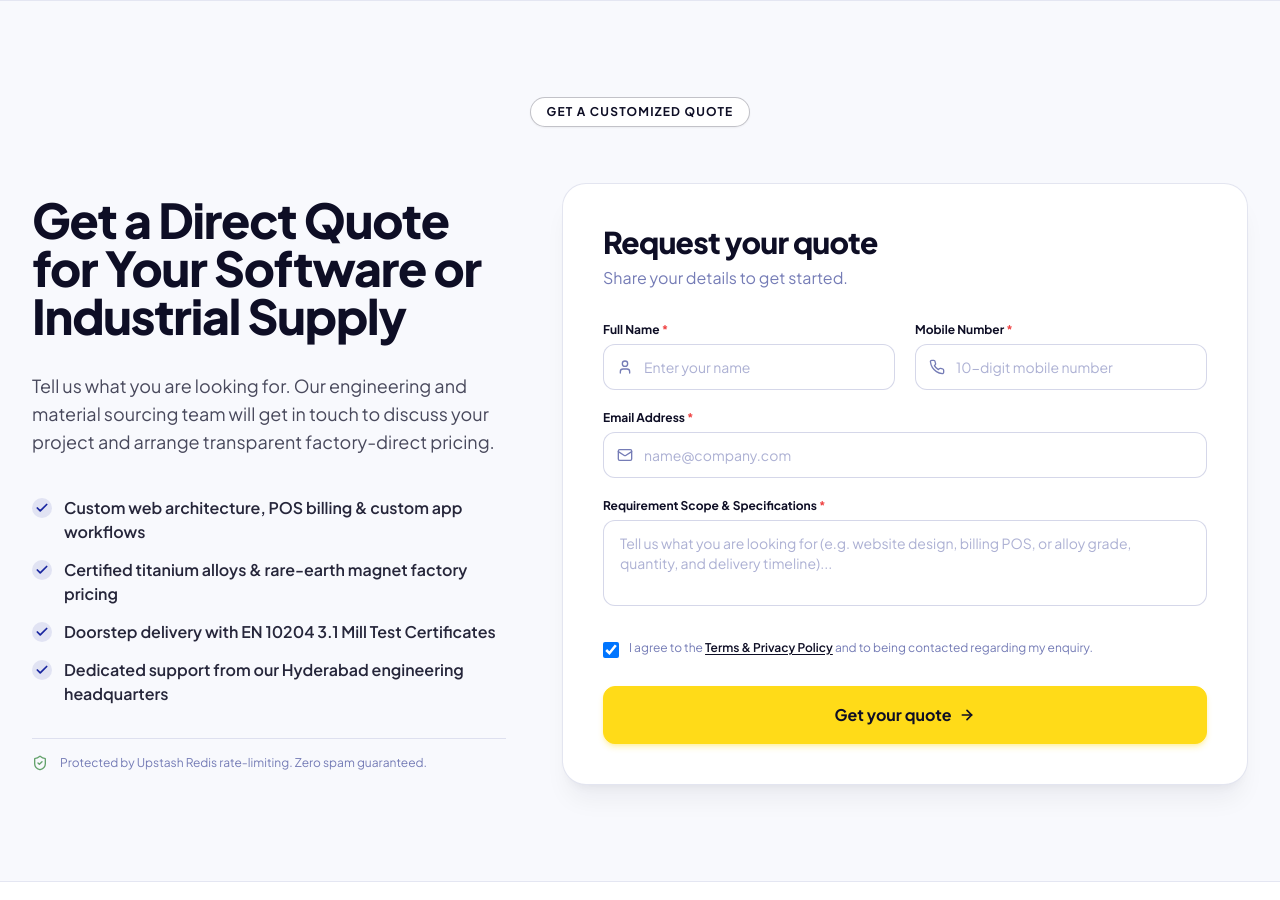
it: Component: ContactUs › submits the form successfully and displays confirmation view
Type "Santosh Sharma" into the field with placeholder "Enter your name".
click(749, 367); type("Santosh Sharma")  # box [603, 344, 895, 390]
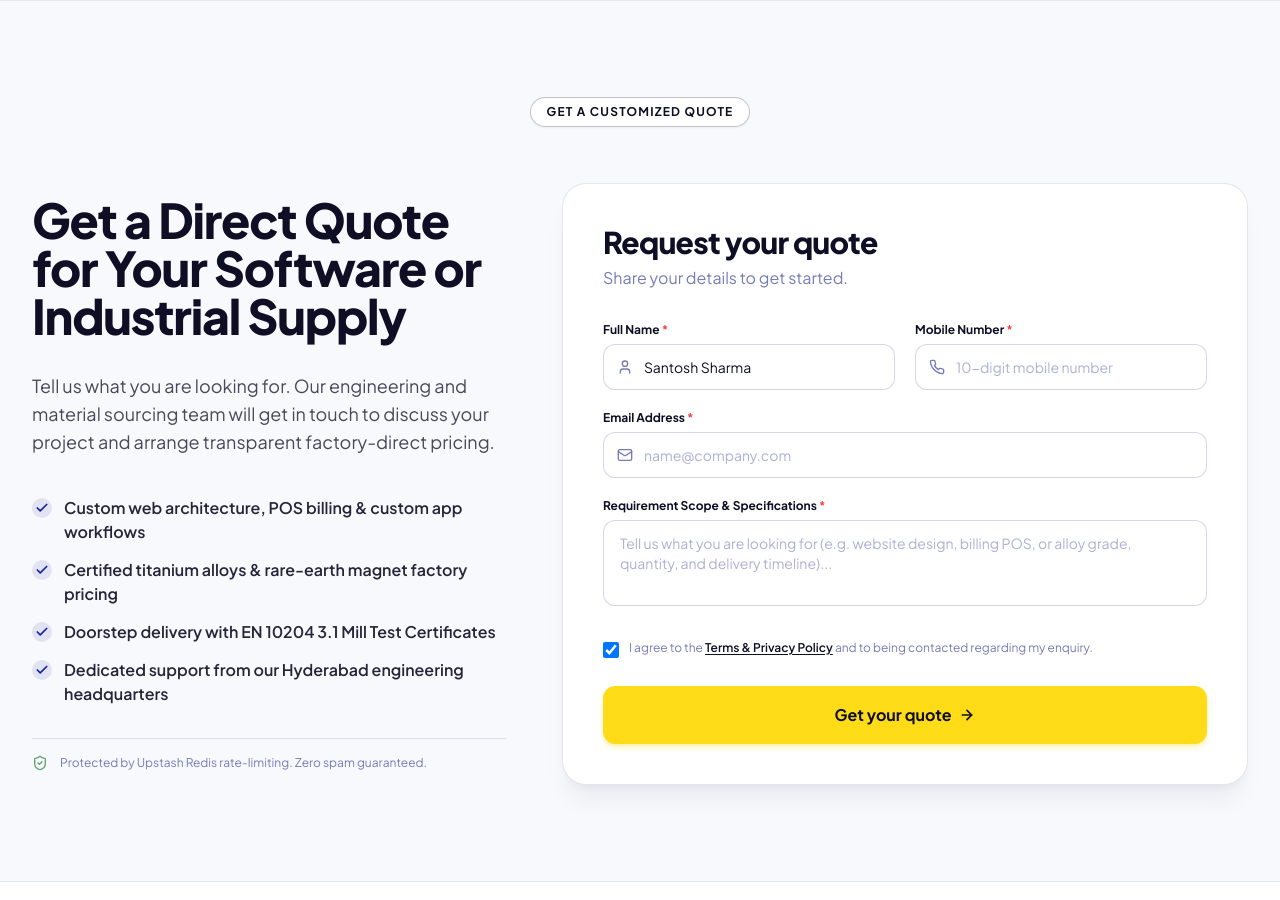
Type "9704166455" into the field with placeholder "10-digit mobile number".
click(1061, 367); type("9704166455")  # box [915, 344, 1207, 390]
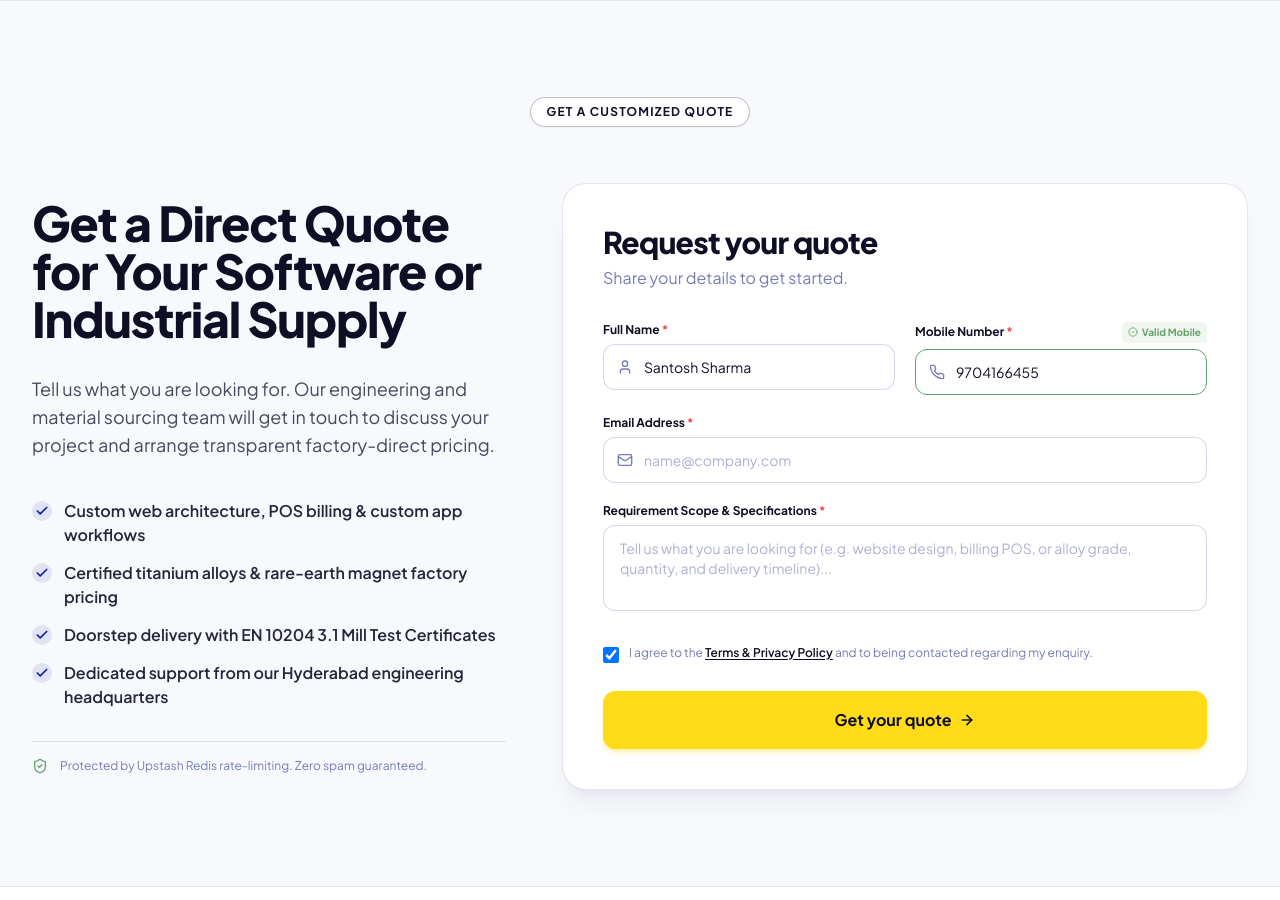
Type "santosh@aonictech.com" into the field with placeholder "name@company.com".
click(905, 460); type("santosh@aonictech.com")  # box [603, 437, 1207, 483]
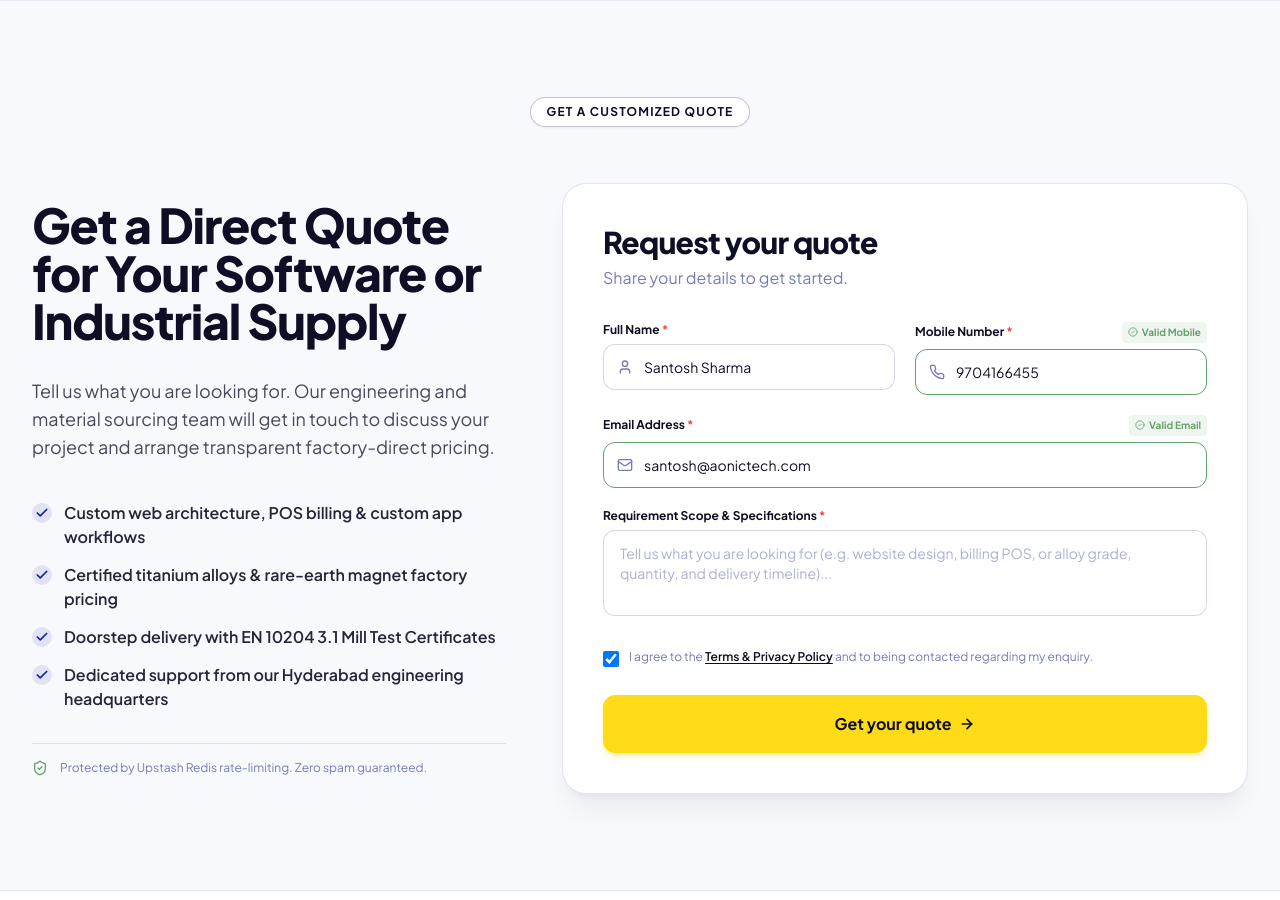
Replace the text in the text box with placeholder "Tell us what you are looking for" with "We need custom web software with billing POS integration." at x=905, y=573, box [603, 530, 1207, 616]
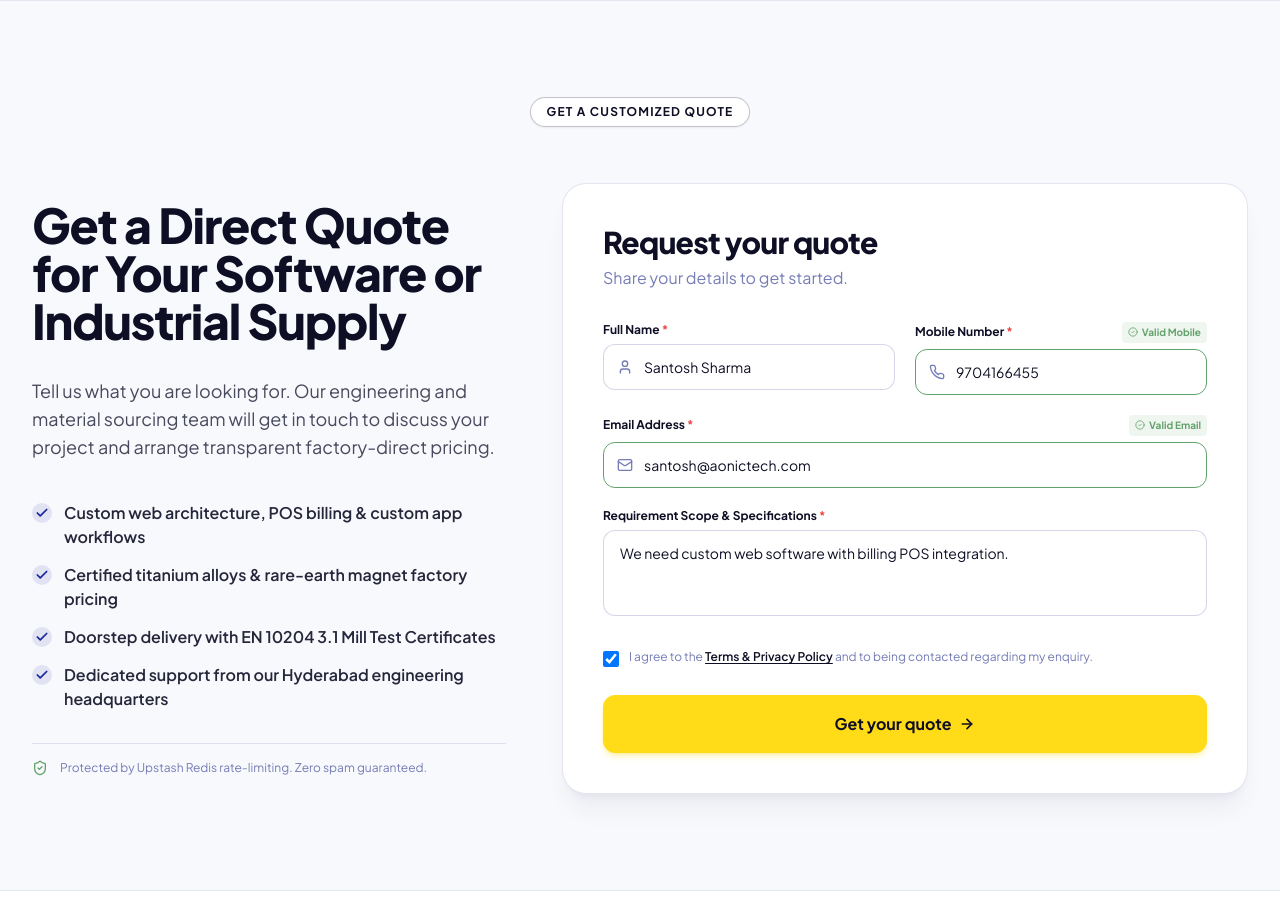
Click the button "Get your quote".
click(905, 724)  # box [603, 696, 1207, 754]
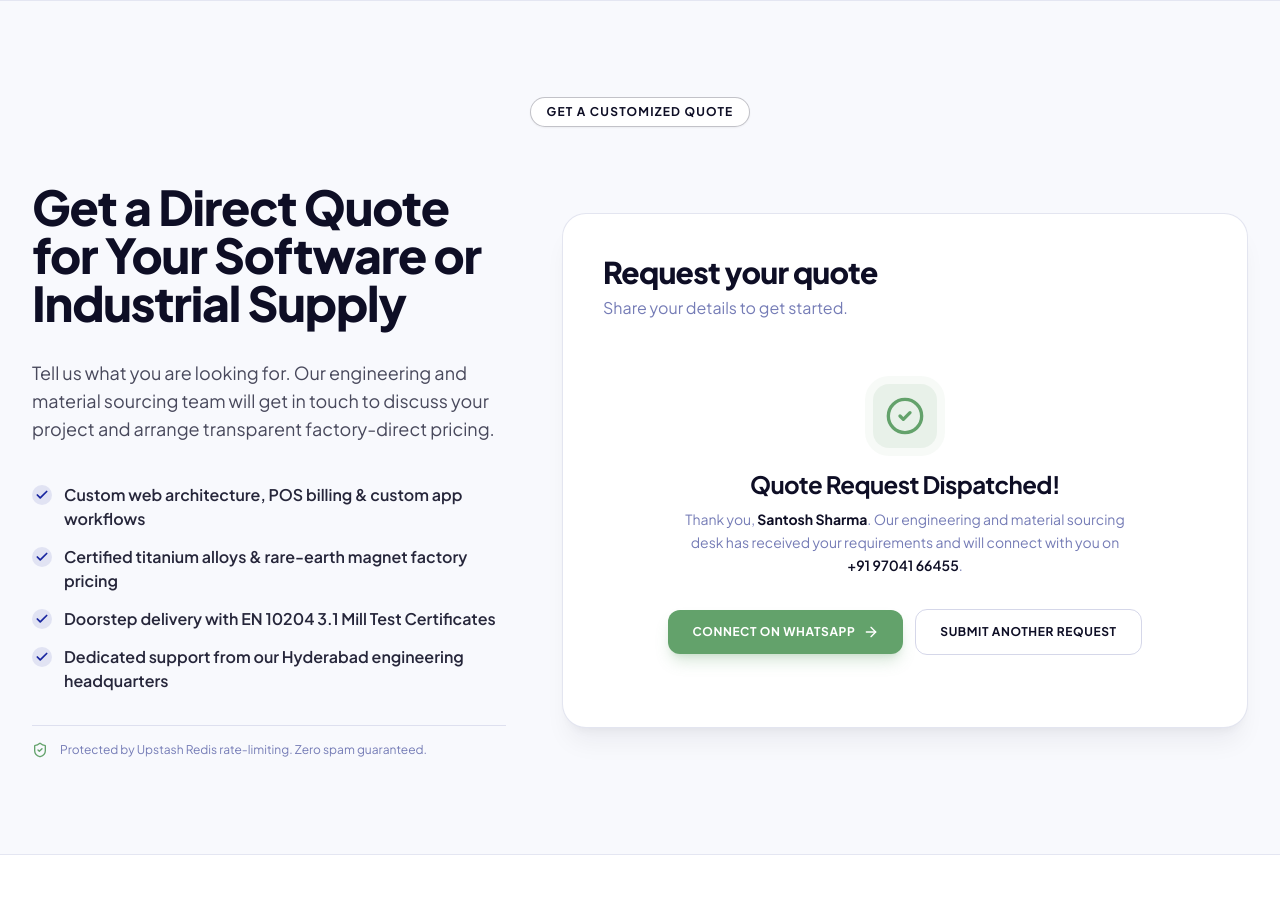
Result: the heading "Quote Request Dispatched!" is shown at [750, 469, 1060, 499]
